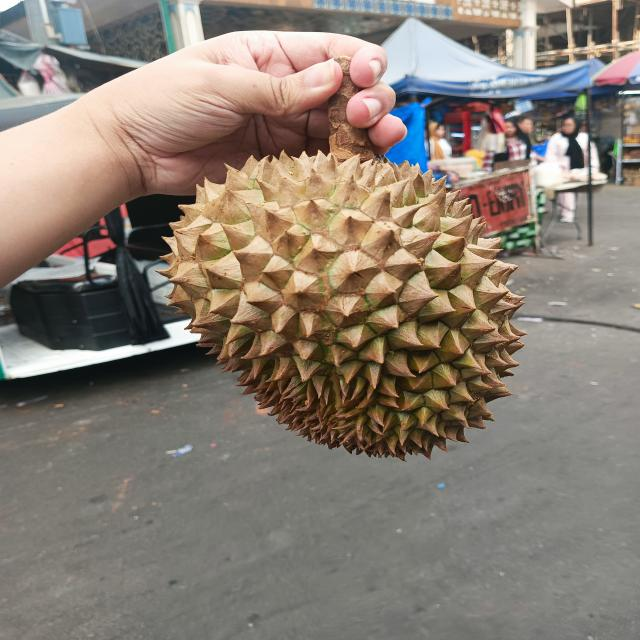mature: (158, 145, 526, 456)
